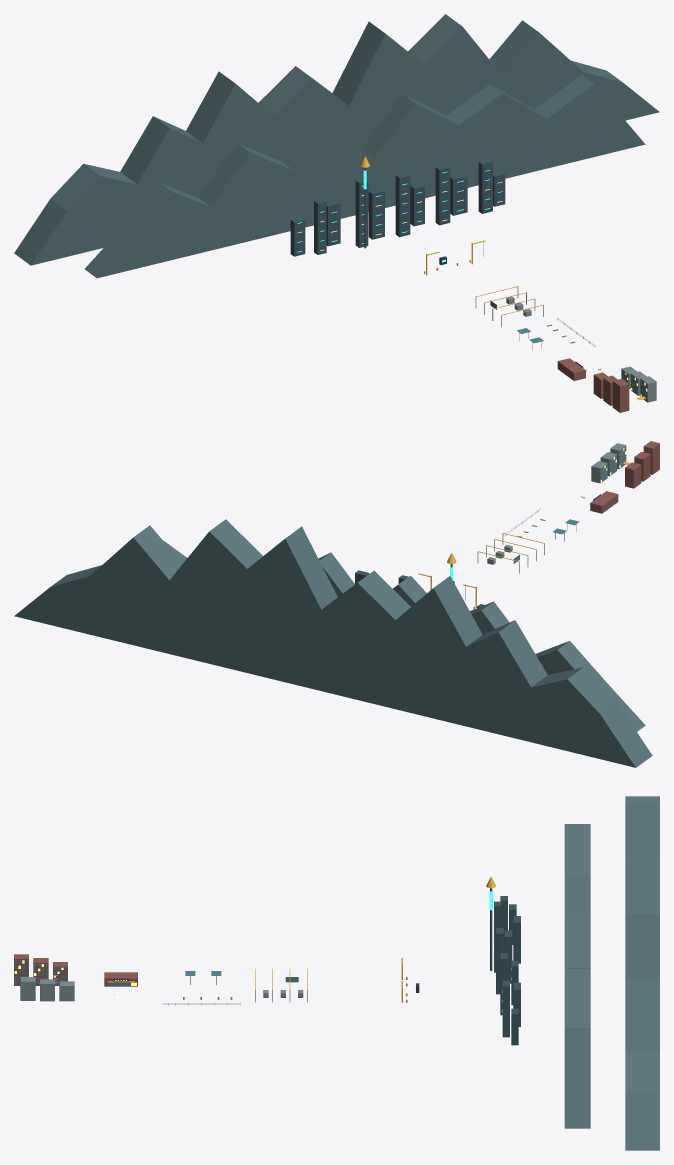
The model's file is rain_city_run_foundry.glb.
The picture shows the model from 3 angles, top to bottom: view 1: azimuth 30°, elevation 25°; view 2: azimuth 150°, elevation 25°; view 3: azimuth 270°, elevation 25°; orthographic projection. The views are drawn at different scales.
Parts seen in each view (by area): view 1: RainCity_RC_Mountain_Batch, RainCity_RC_Skyline_Batch, RainCity_RC_RainBrick_Batch, RainCity_RC_WetConcrete_Batch; view 2: RainCity_RC_Mountain_Batch, RainCity_RC_RainBrick_Batch, RainCity_RC_WetConcrete_Batch; view 3: RainCity_RC_Mountain_Batch, RainCity_RC_Skyline_Batch, RainCity_RC_RainBrick_Batch, RainCity_RC_WetConcrete_Batch, RainCity_RC_GlassPanels_Batch.
Boxes of the visible parts, left/top/right/bottom form: RainCity_RC_Mountain_Batch: left=14, top=14, right=659, bottom=278; RainCity_RC_Skyline_Batch: left=290, top=159, right=505, bottom=256; RainCity_RC_RainBrick_Batch: left=557, top=358, right=629, bottom=412; RainCity_RC_WetConcrete_Batch: left=621, top=366, right=656, bottom=402; RainCity_RC_Mountain_Batch: left=14, top=519, right=652, bottom=767; RainCity_RC_RainBrick_Batch: left=590, top=441, right=659, bottom=513; RainCity_RC_WetConcrete_Batch: left=591, top=443, right=626, bottom=483; RainCity_RC_Mountain_Batch: left=564, top=796, right=659, bottom=1150; RainCity_RC_Skyline_Batch: left=490, top=888, right=520, bottom=1045; RainCity_RC_RainBrick_Batch: left=14, top=954, right=137, bottom=986; RainCity_RC_WetConcrete_Batch: left=20, top=977, right=74, bottom=1001; RainCity_RC_GlassPanels_Batch: left=14, top=960, right=298, bottom=986.
Size of the model in its own units: 344 by 76.06 by 298.
